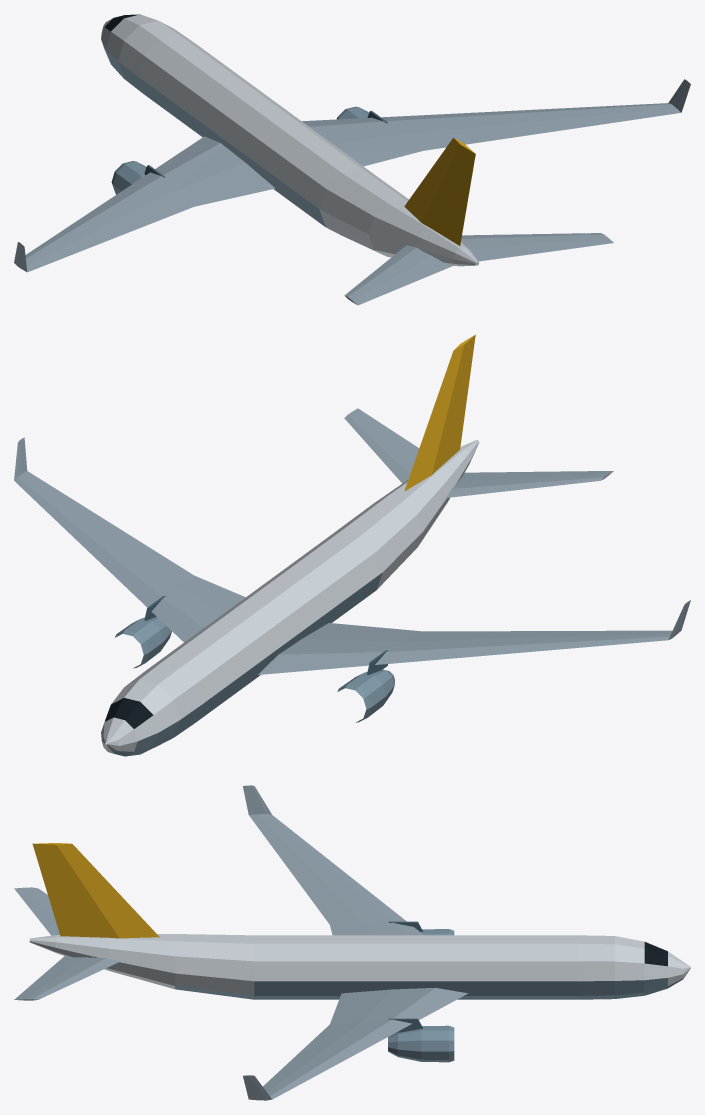
3 views of the same model, one above another, from view 1: azimuth 30°, elevation 25°; view 2: azimuth 150°, elevation 25°; view 3: azimuth 270°, elevation 25° (orthographic). The views are drawn at different scales.
Visible parts, largest first — view 1: lod0; view 2: lod0; view 3: lod0.
Part boxes in pixels (x1=…): lod0: x1=14, y1=14, x2=690, y2=305; lod0: x1=14, y1=334, x2=690, y2=756; lod0: x1=14, y1=785, x2=690, y2=1100.
Size of what is drawn, in the model's own units: 1.01 by 0.2734 by 1.
